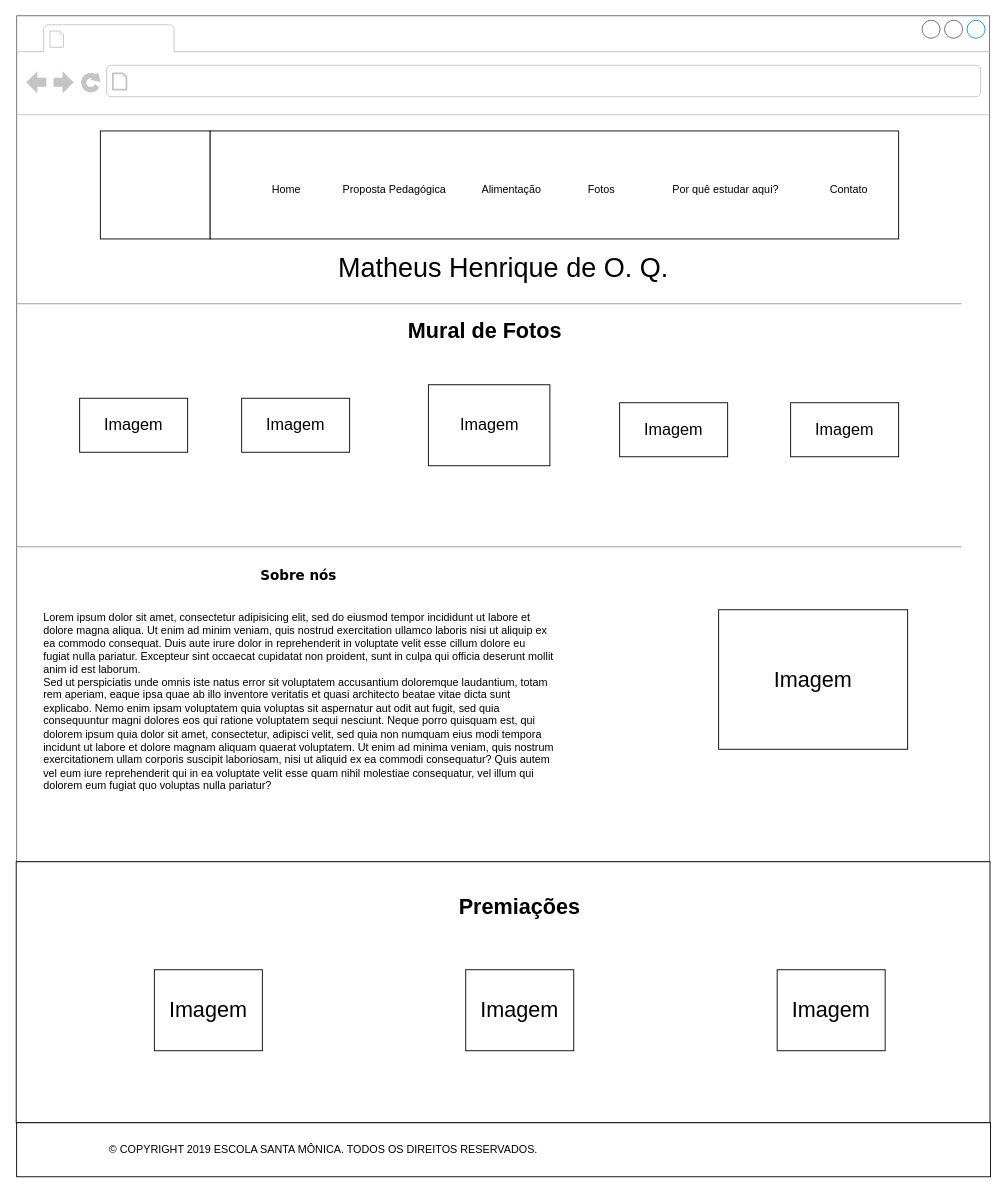
Some shapes in this 1006 by 1193 pixel diagram are drawn without their labels. Each missing label, with the centre of its shape:
"https://www.escolasantamonica.com" belongs at [246,81].
"Logo" belongs at [154,184].
"Page 1" belongs at [120,38].
